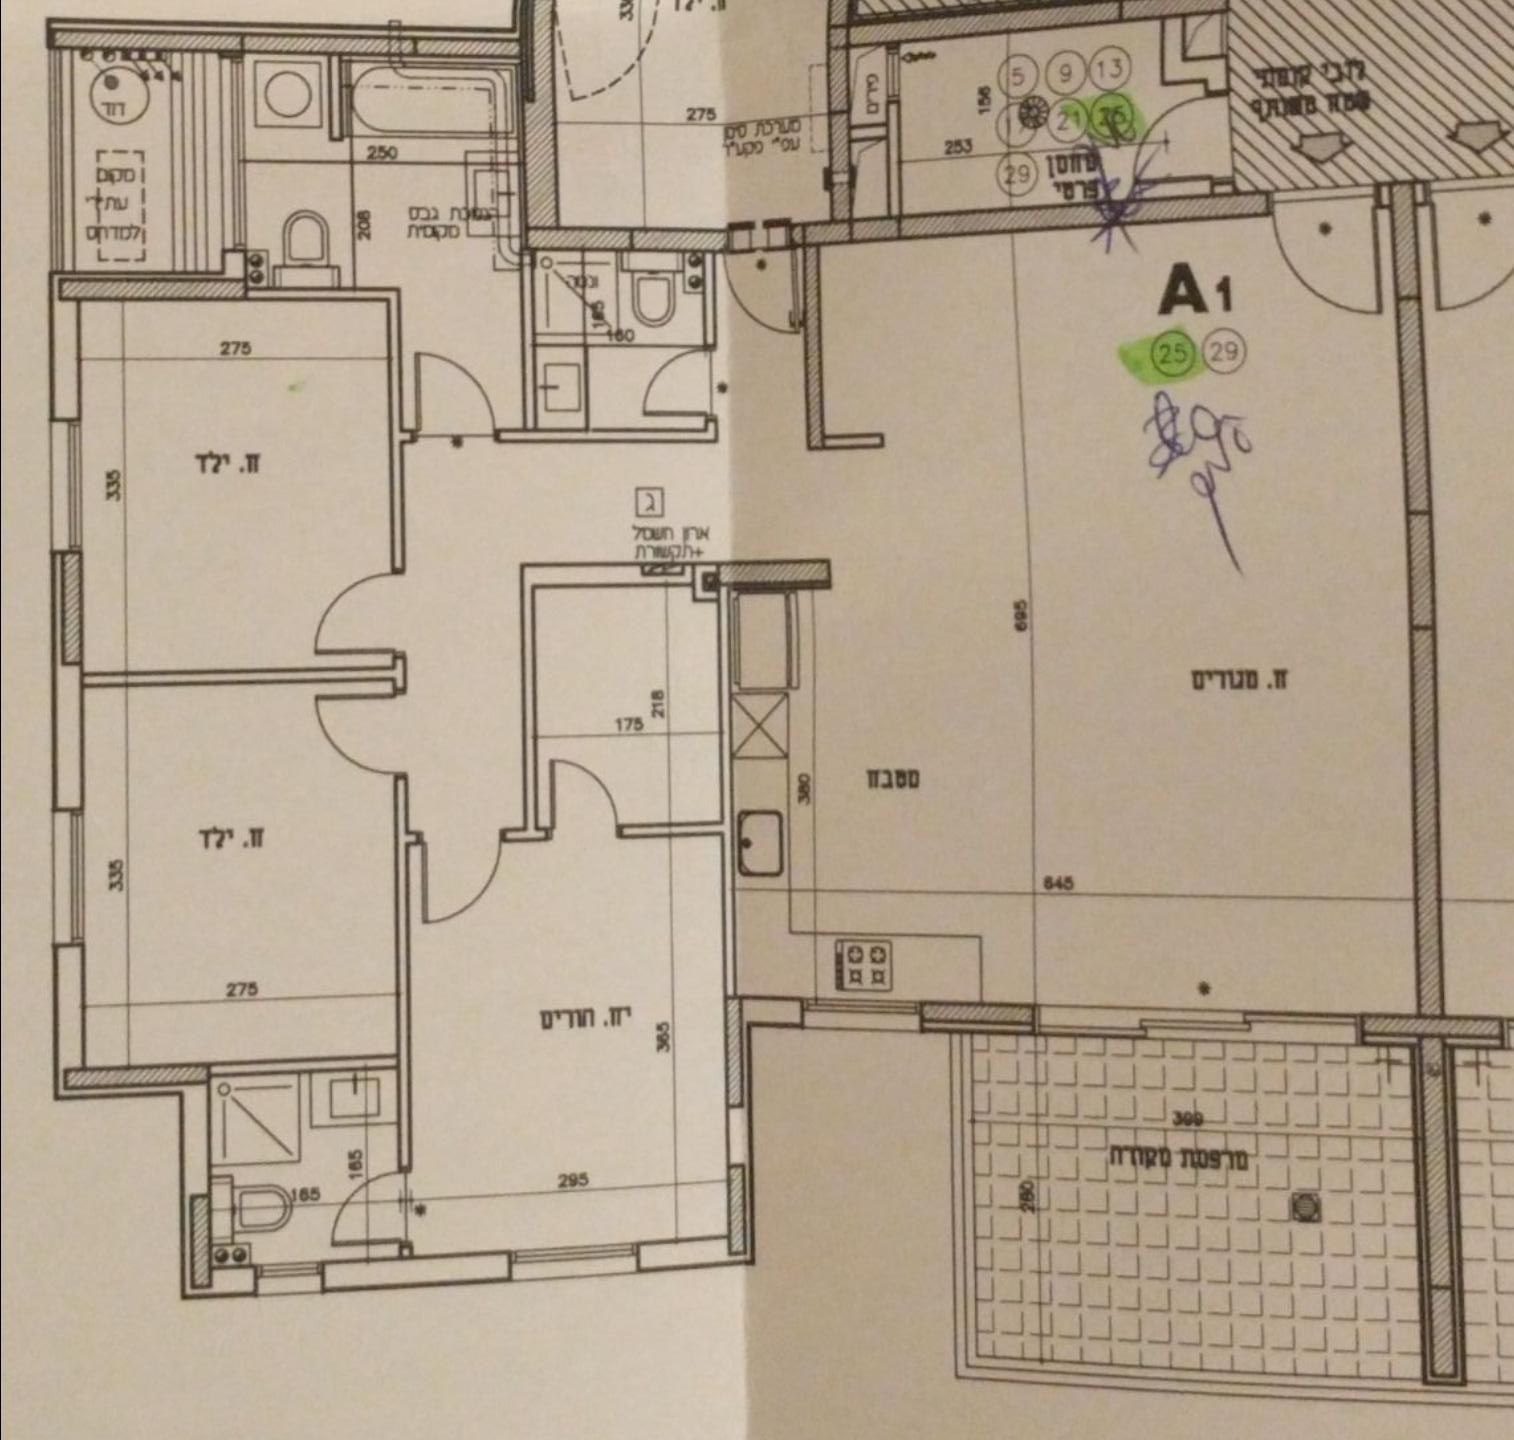door: (411, 339, 515, 488), (291, 562, 447, 652), (291, 690, 447, 777), (539, 748, 631, 883), (419, 819, 512, 946)
